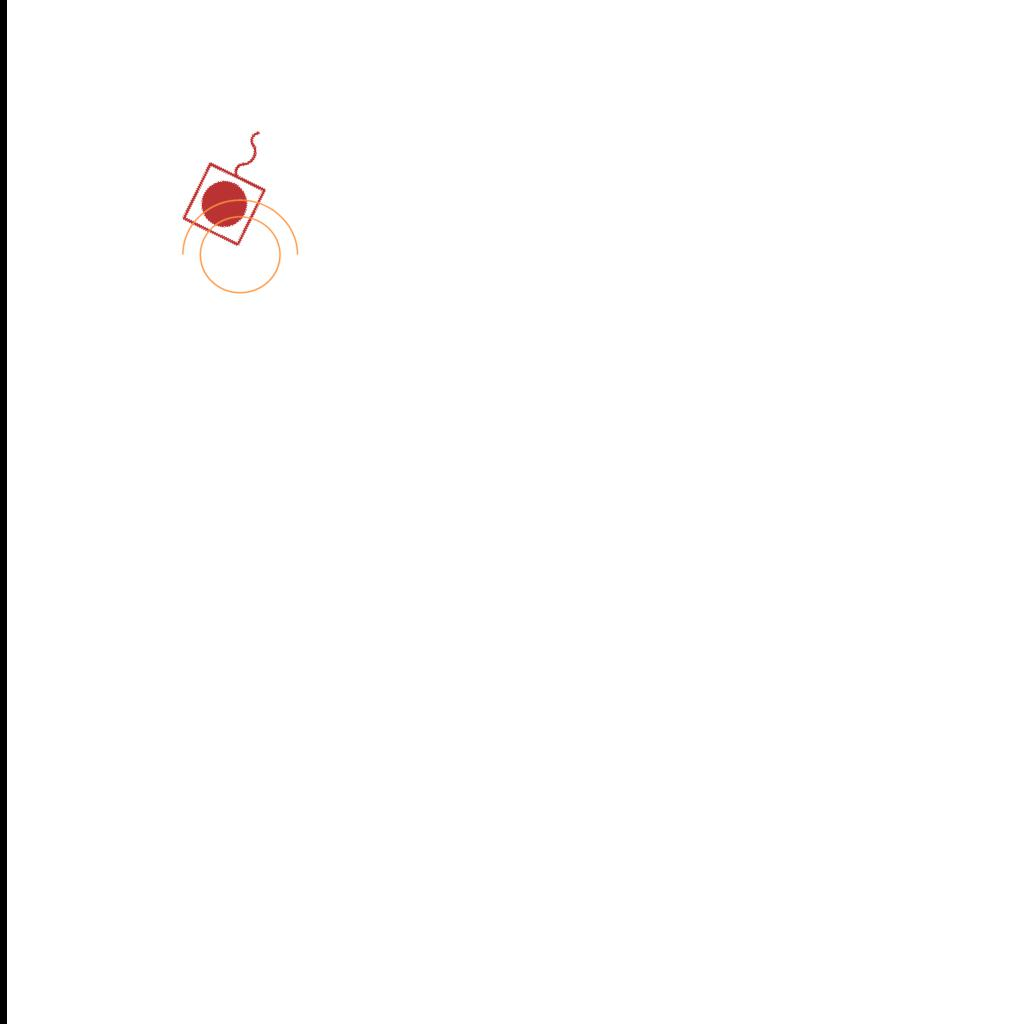Scheinwerfer_fuer_Alarmbeleuchtung: (171, 194, 303, 306)
Zugtaster: (176, 111, 296, 253)
